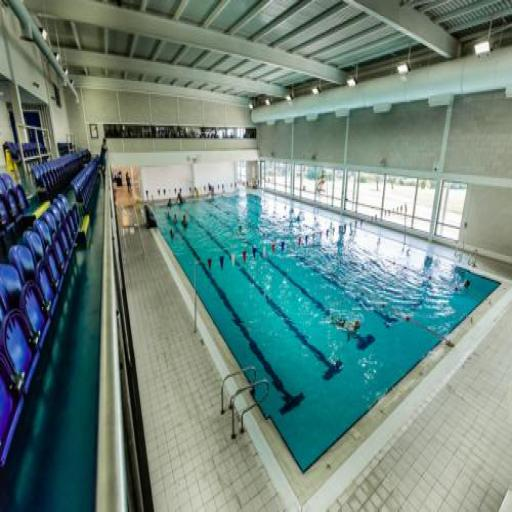swimming: (330, 312, 364, 340)
